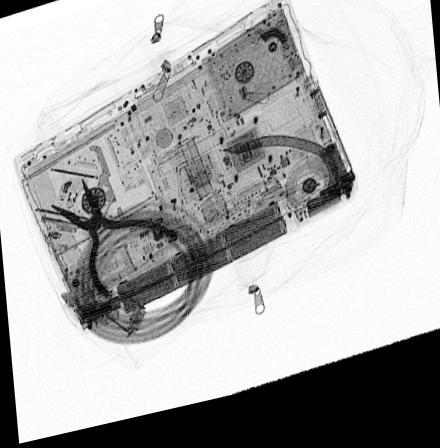Pliers: (49, 179, 179, 307)
